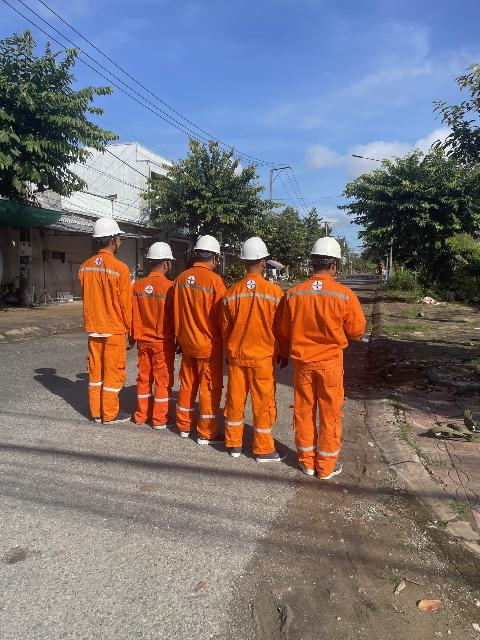helmet: (81, 214, 127, 243), (188, 228, 226, 261), (311, 236, 347, 270), (232, 232, 270, 262), (144, 239, 178, 271)
shoes: (244, 445, 292, 468), (101, 408, 129, 432), (318, 458, 344, 482), (151, 411, 175, 436), (198, 428, 224, 450), (295, 450, 316, 477), (231, 443, 247, 461), (176, 422, 191, 439)
